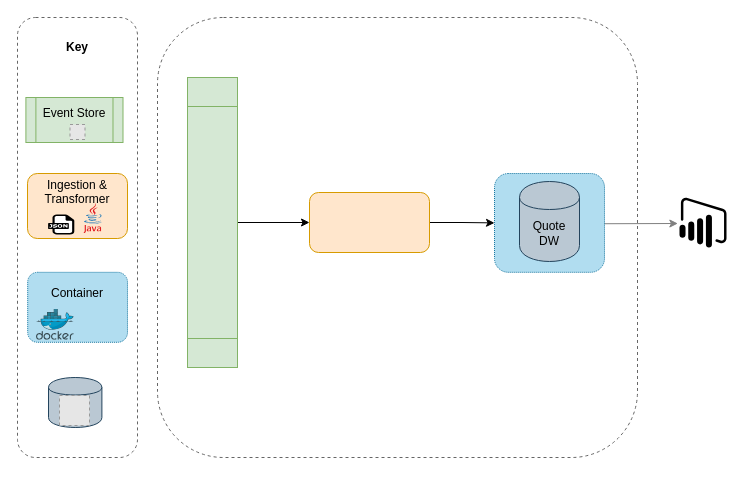
The diagram is 752 pixels wide and 483 high, and some of its shapes have lost their labels. Grey dashed boxes stand in for pictures. The shapes that lost their labels are listed below. From the top down, each one's centre as x and y in pixels, then its label:
At (x=369, y=222): "quote_event_stream ingestion & transformer".
At (x=702, y=222): "Analytics BI Dashboard".
